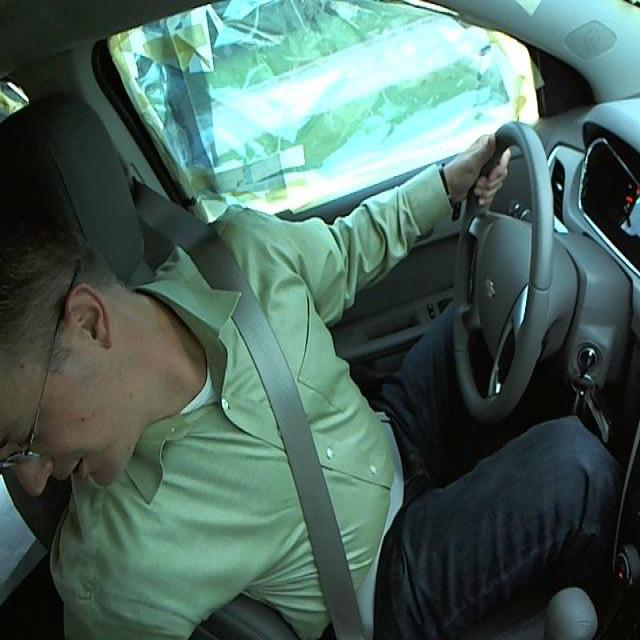seatbelt: (179, 265, 406, 636)
